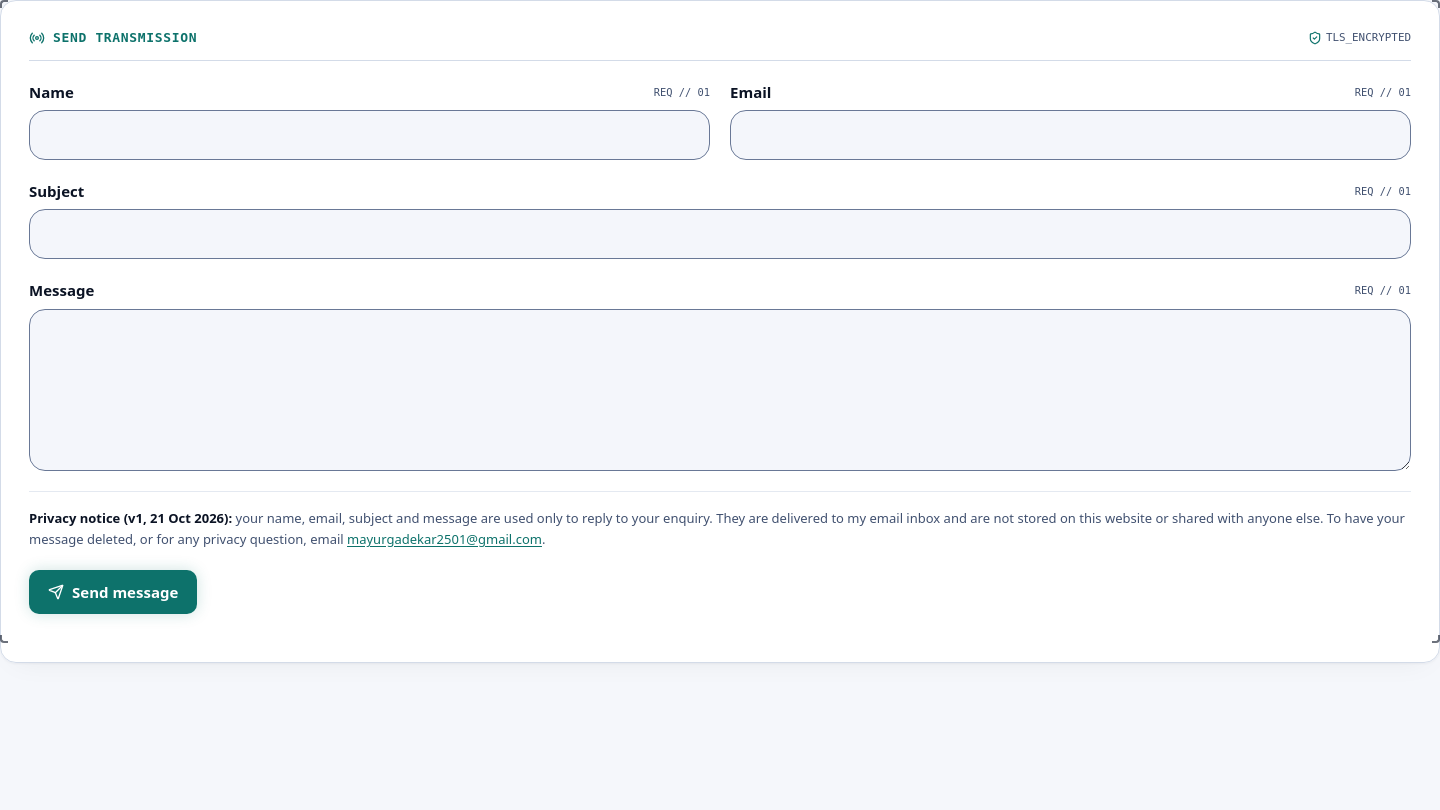
Test: contact form › validates on the client, flags each field and focuses the first
What coordinates should you click on to do the following:
click the button "Send message"
I would click on:
 (113, 592)
Its box is x1=29 y1=570 x2=197 y2=614.
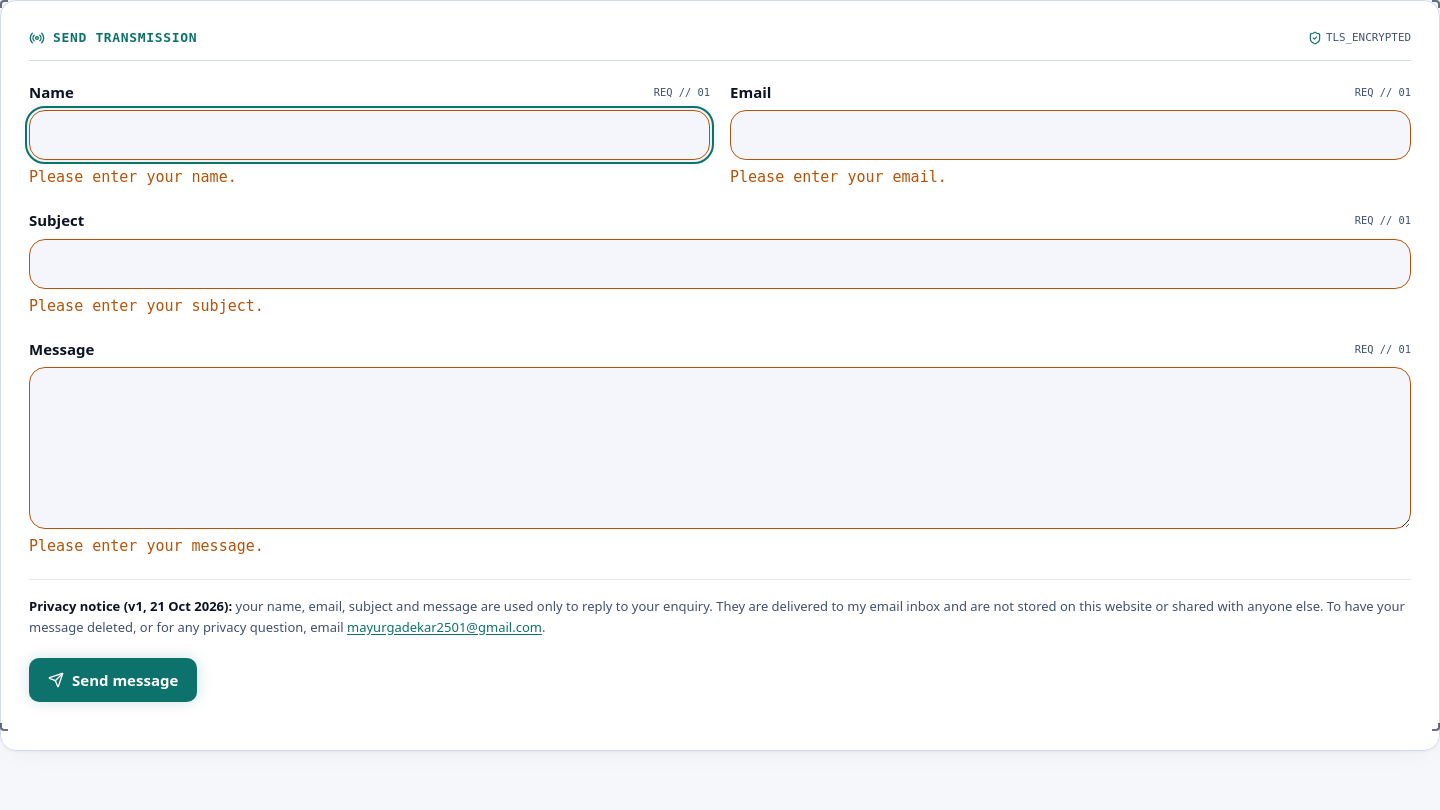
Check: the text "Please enter your email." is shown, box x1=730 y1=168 x2=947 y2=186
